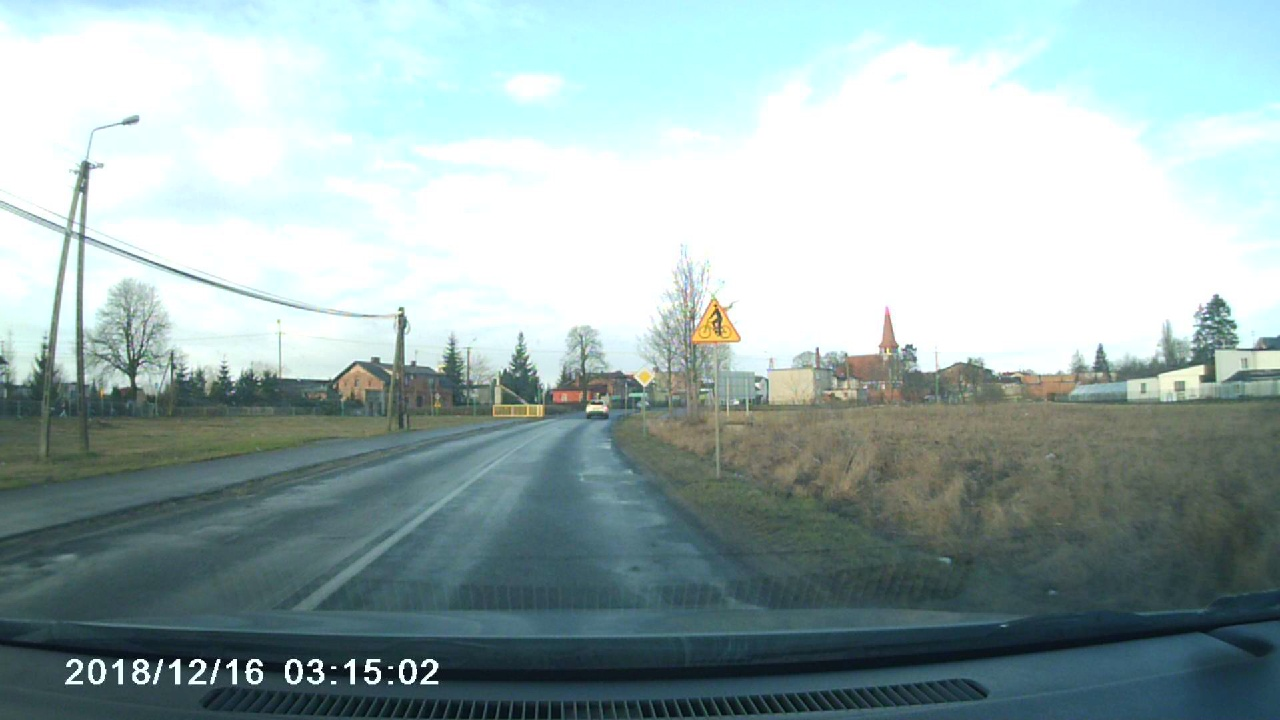D1: (631, 366, 657, 384)
